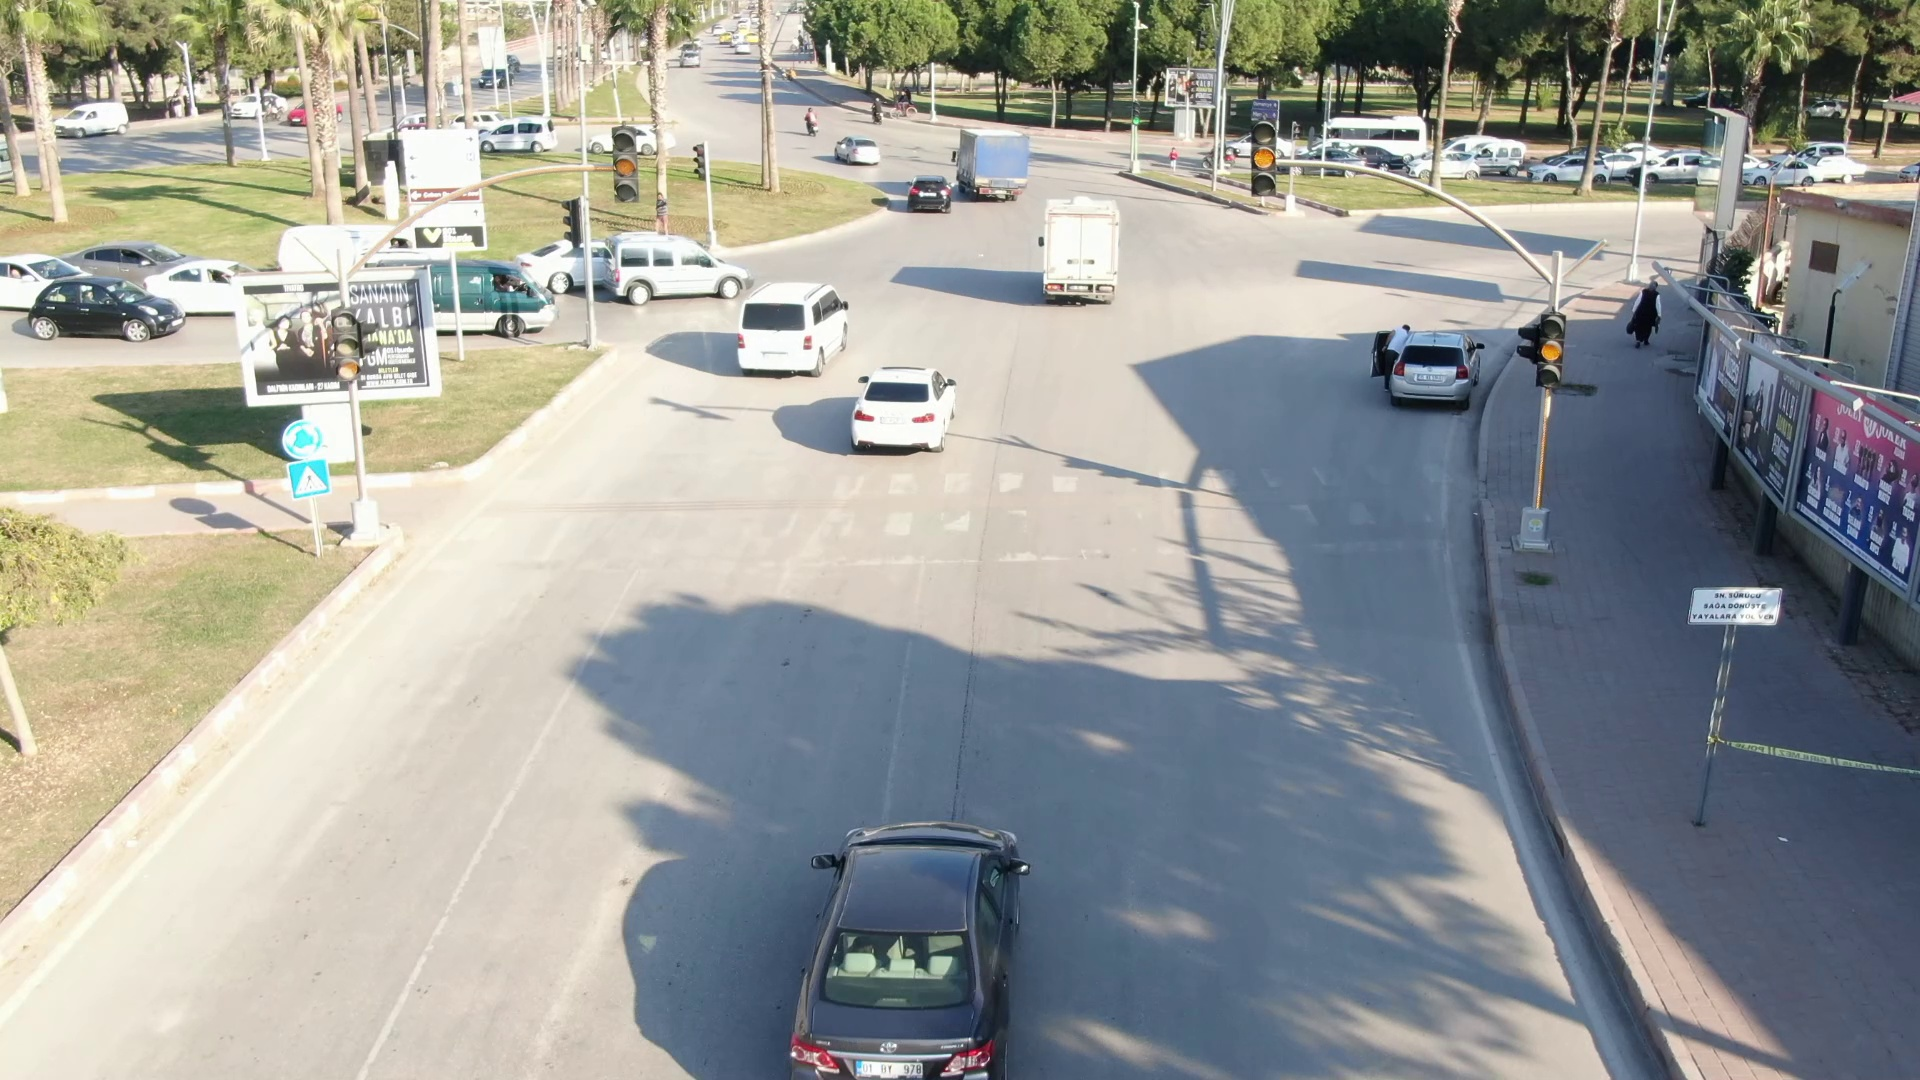car: (772, 780, 1096, 1008), (847, 349, 966, 465), (26, 270, 194, 349), (730, 274, 850, 383), (1034, 190, 1137, 312), (600, 228, 756, 309), (941, 121, 1037, 209), (1391, 334, 1488, 408), (902, 170, 959, 222)
person: (1624, 275, 1667, 363)
